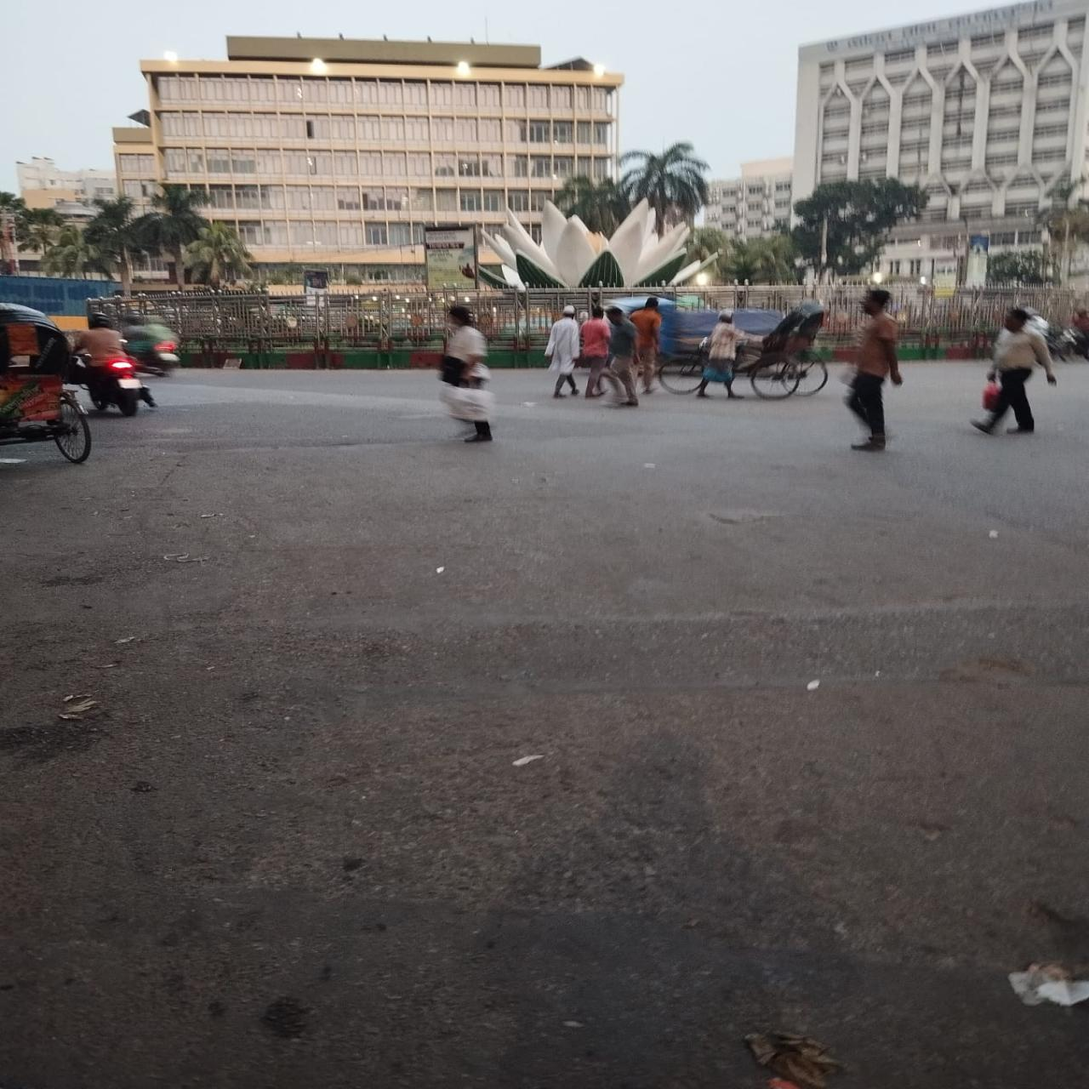person: (838, 287, 905, 461), (973, 309, 1060, 435), (436, 302, 503, 450), (601, 307, 641, 409), (545, 303, 581, 401), (629, 296, 662, 395), (582, 306, 610, 401)
